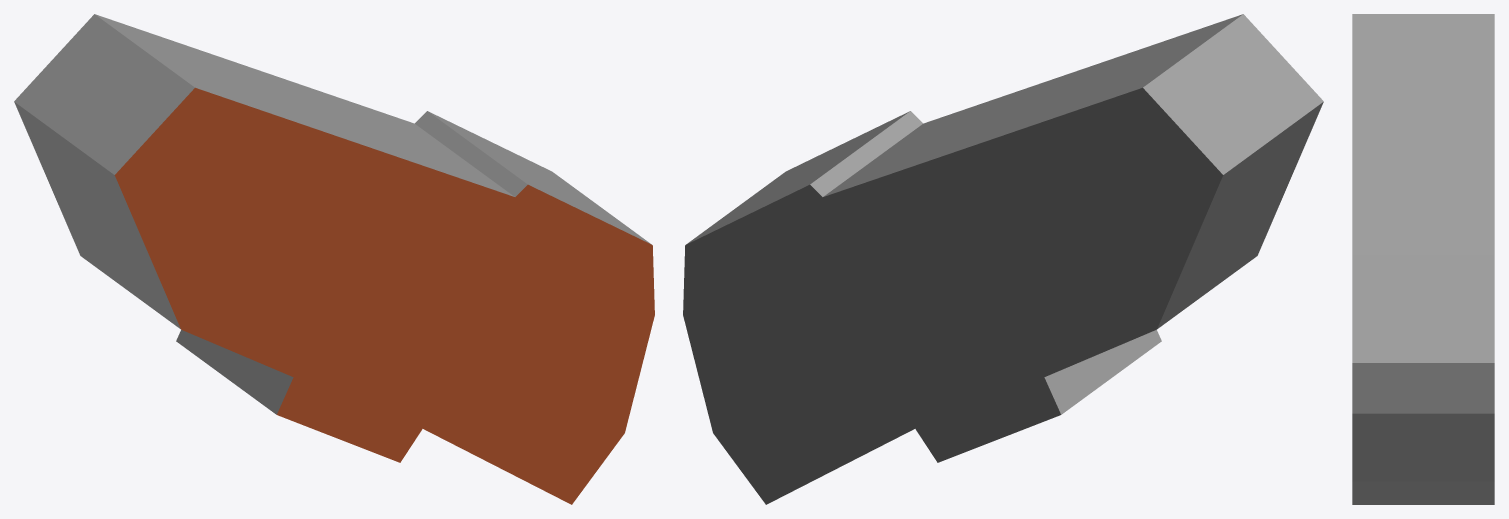
Rendered from construction_5526_assumed_A_Casa_h6m.obj.
3 views of the same model, side by side, from view 1: azimuth 30°, elevation 25°; view 2: azimuth 150°, elevation 25°; view 3: azimuth 270°, elevation 25° (orthographic). The views are drawn at different scales.
Parts seen in each view (by area): view 1: construction_5526_assumed_A_Casa; view 2: construction_5526_assumed_A_Casa; view 3: construction_5526_assumed_A_Casa.
Part boxes in pixels (left/top/right/bottom): construction_5526_assumed_A_Casa: left=14, top=14, right=654, bottom=504; construction_5526_assumed_A_Casa: left=683, top=14, right=1323, bottom=504; construction_5526_assumed_A_Casa: left=1352, top=14, right=1494, bottom=504.
Bounding box in the file's own units: 18.59 × 16.75 × 6.
